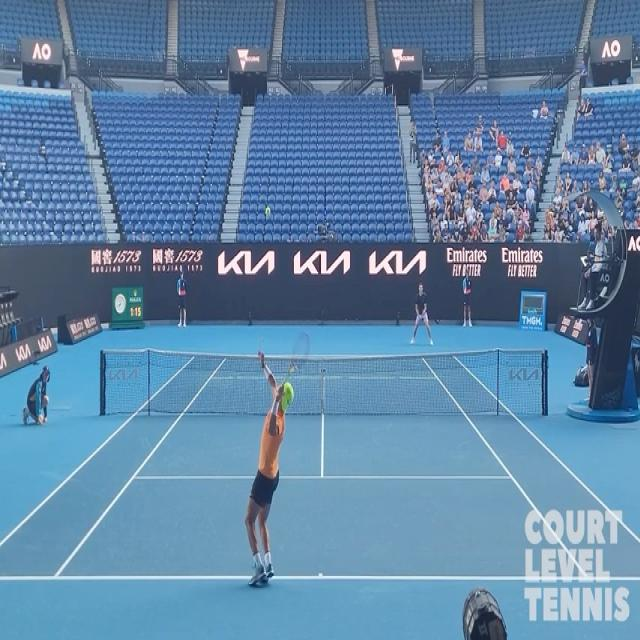serve_hit: (230, 324, 325, 596)
